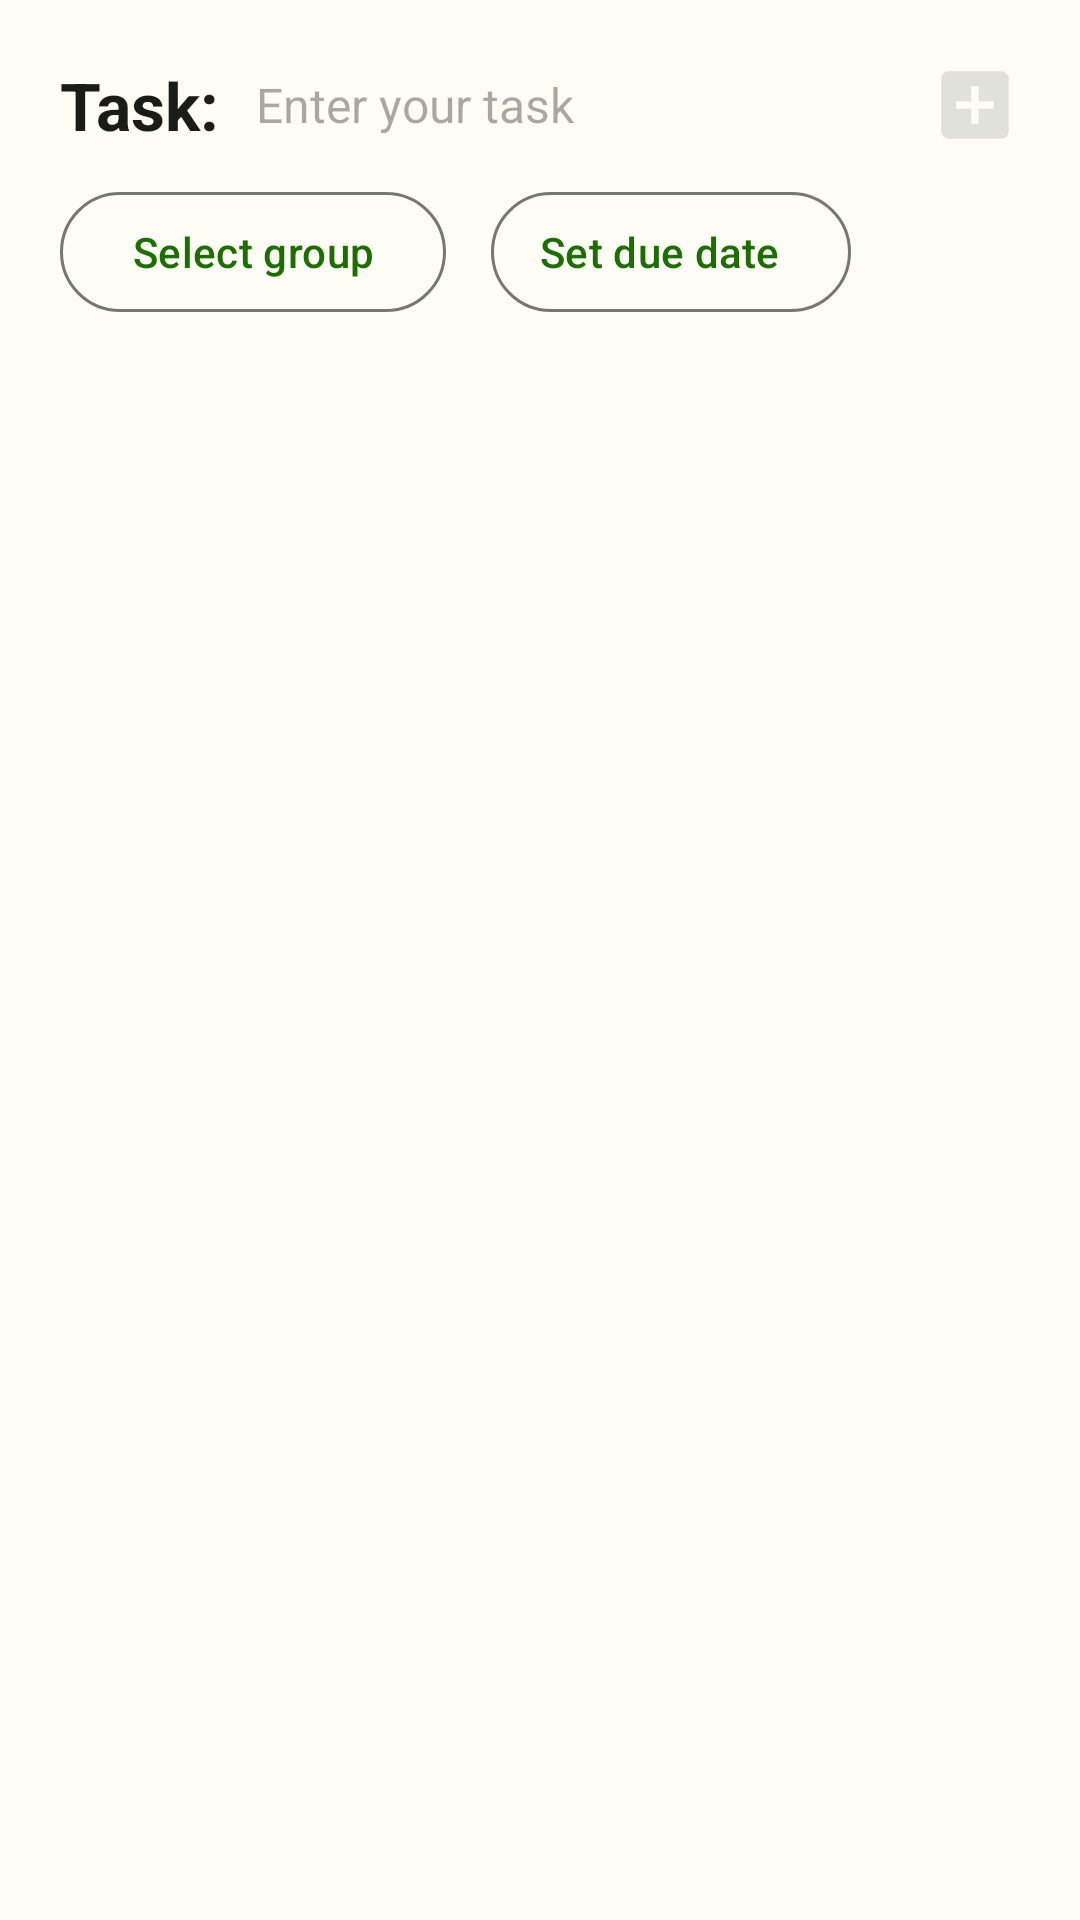

Icon click points for this 1080*1920 phone screenshot, format (x,y):
add task: (975,105)
